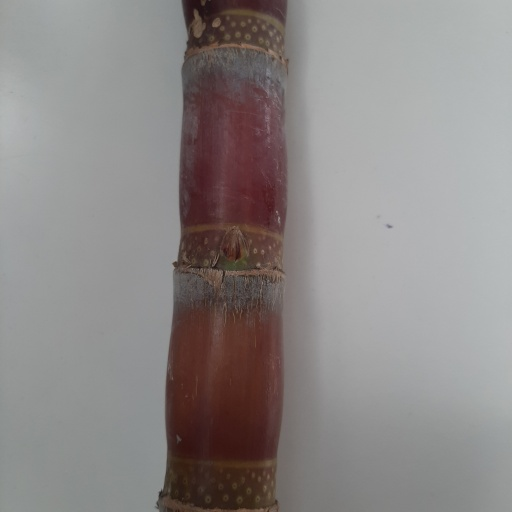Bud: (221, 225, 248, 262)
